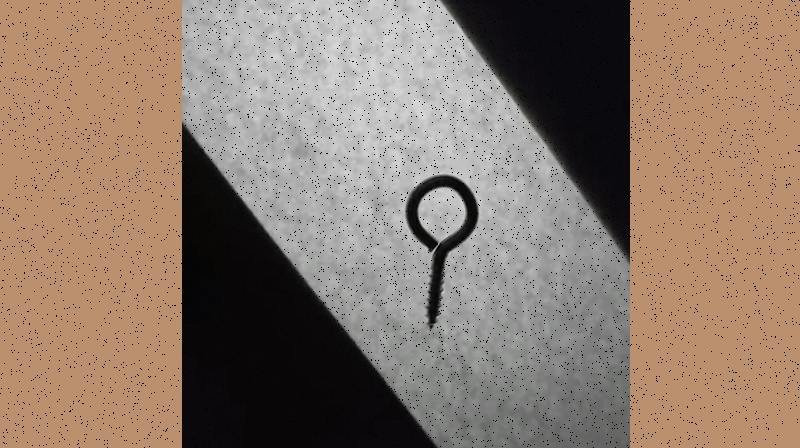O001: (402, 172, 480, 335)
